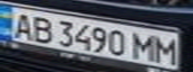0: (106, 27, 130, 57)
3: (51, 18, 75, 48)
4: (72, 21, 93, 51)
9: (90, 25, 109, 54)
A: (6, 10, 39, 39)
B: (27, 14, 57, 44)
M: (130, 32, 160, 62), (151, 35, 181, 64)
